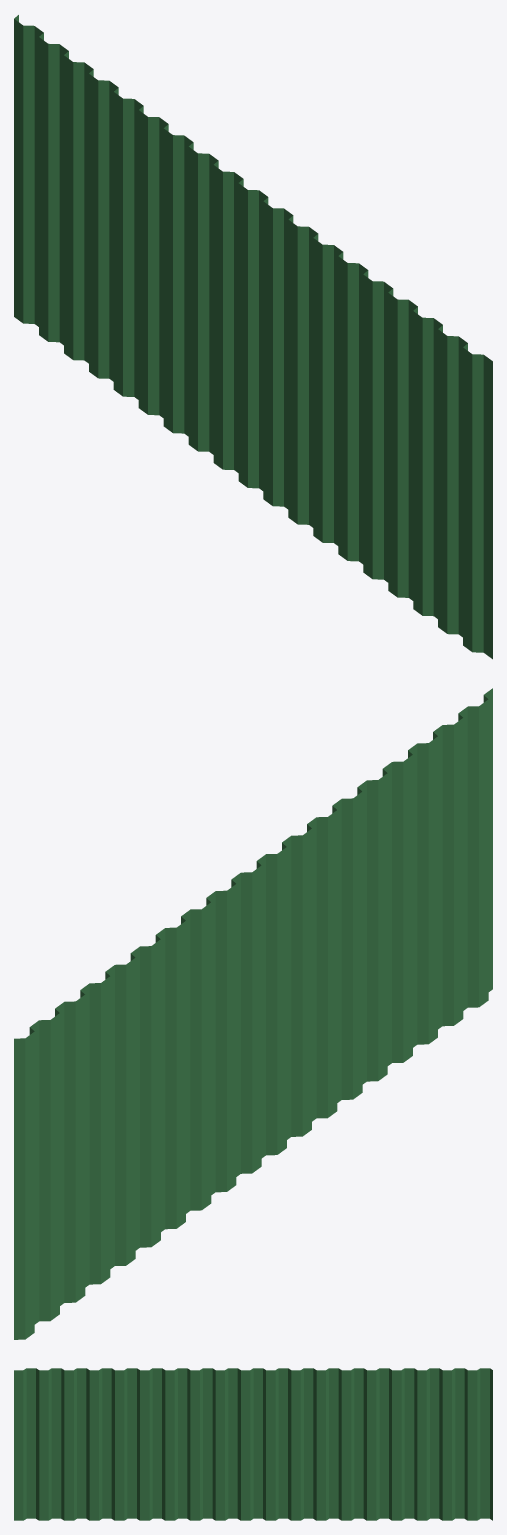
3 renders of one model, top to bottom at view 1: azimuth 30°, elevation 25°; view 2: azimuth 150°, elevation 25°; view 3: azimuth 270°, elevation 25°, orthographic. The views are drawn at different scales.
Visible parts, largest first — view 1: group_2, group_5, group_8, group_12, group_13, group_9, group_0, group_3, group_15, group_7, group_10, group_11 (+7 smaller); view 2: group_6, group_12, group_14, group_17, group_0, group_2, group_7, group_16, group_11, group_1, group_8, group_4 (+7 smaller); view 3: group_8, group_0, group_1, group_4, group_5, group_6, group_7, group_9, group_11, group_12, group_13, group_14 (+7 smaller).
Part boxes in pixels (x1=…): group_2: x1=463, y1=343, x2=492, y2=659; group_5: x1=388, y1=288, x2=417, y2=600; group_8: x1=288, y1=216, x2=317, y2=527; group_12: x1=188, y1=142, x2=218, y2=454; group_13: x1=163, y1=124, x2=193, y2=436; group_9: x1=263, y1=197, x2=293, y2=509; group_0: x1=338, y1=252, x2=367, y2=564; group_3: x1=363, y1=270, x2=392, y2=582; group_15: x1=113, y1=88, x2=143, y2=399; group_7: x1=313, y1=234, x2=342, y2=545; group_10: x1=238, y1=179, x2=267, y2=490; group_11: x1=213, y1=161, x2=242, y2=472; group_6: x1=14, y1=1020, x2=39, y2=1339; group_12: x1=190, y1=891, x2=215, y2=1210; group_14: x1=140, y1=928, x2=165, y2=1247; group_17: x1=64, y1=983, x2=89, y2=1302; group_0: x1=341, y1=780, x2=366, y2=1099; group_2: x1=467, y1=688, x2=492, y2=1007; group_7: x1=316, y1=799, x2=341, y2=1118; group_16: x1=89, y1=965, x2=114, y2=1284; group_11: x1=215, y1=873, x2=240, y2=1192; group_1: x1=442, y1=707, x2=467, y2=1026; group_8: x1=291, y1=817, x2=316, y2=1136; group_4: x1=417, y1=725, x2=442, y2=1044; group_8: x1=190, y1=1368, x2=215, y2=1520; group_0: x1=140, y1=1368, x2=165, y2=1520; group_1: x1=39, y1=1368, x2=64, y2=1520; group_4: x1=64, y1=1368, x2=89, y2=1520; group_5: x1=89, y1=1368, x2=114, y2=1520; group_6: x1=467, y1=1368, x2=492, y2=1520; group_7: x1=165, y1=1368, x2=190, y2=1520; group_9: x1=215, y1=1368, x2=240, y2=1520; group_11: x1=266, y1=1368, x2=291, y2=1520; group_12: x1=291, y1=1368, x2=316, y2=1520; group_13: x1=316, y1=1368, x2=341, y2=1520; group_14: x1=341, y1=1368, x2=366, y2=1520.
Size of the model in its own units: 3 by 304 by 105.
